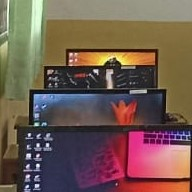monitor: (16, 125, 190, 189), (29, 89, 167, 127)
